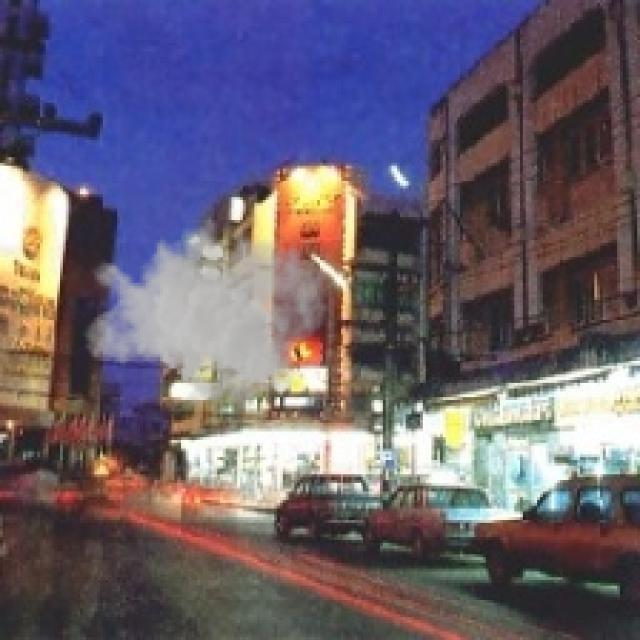Smoke: (82, 206, 328, 411)
